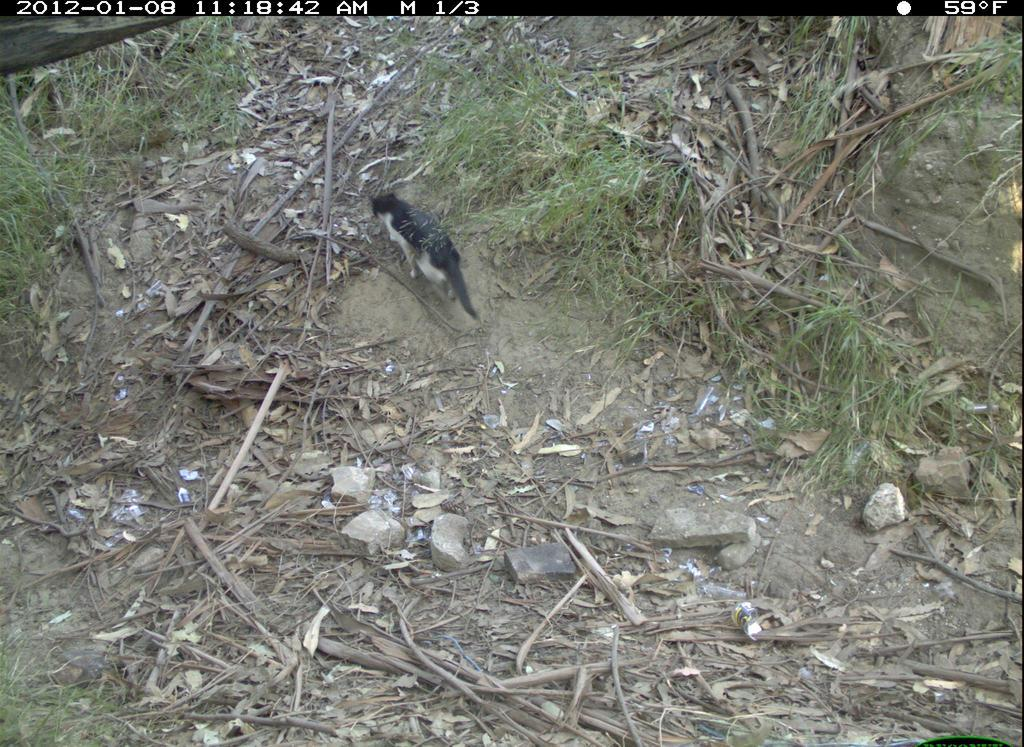cat: (361, 185, 488, 327)
